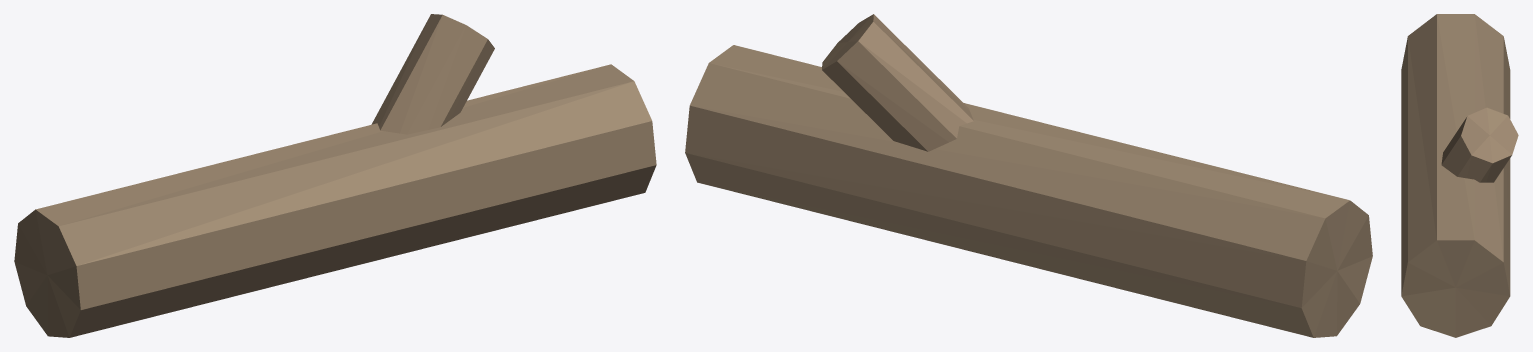
File: driftwood.glb
3 renders of one model, left to right at view 1: azimuth 30°, elevation 25°; view 2: azimuth 150°, elevation 25°; view 3: azimuth 270°, elevation 25°, orthographic. The views are drawn at different scales.
Visible parts, largest first — view 1: log_main, branch; view 2: log_main, branch; view 3: log_main, branch.
Boxes of the visible parts, box(x1,y1,x2,y2) form: log_main: box(14, 64, 656, 337); branch: box(371, 14, 494, 134); log_main: box(685, 45, 1372, 337); branch: box(822, 14, 973, 151); log_main: box(1401, 14, 1510, 337); branch: box(1441, 107, 1518, 182).
Size of the model in its own units: 1.28 by 0.4394 by 0.2757.
